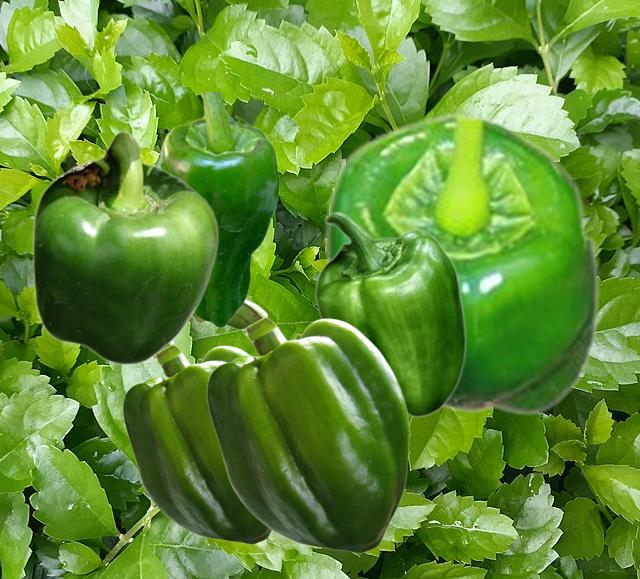bell_pepper: (322, 111, 600, 415), (193, 299, 408, 552), (31, 130, 218, 365), (314, 211, 466, 417), (122, 342, 271, 543), (159, 92, 279, 327)
